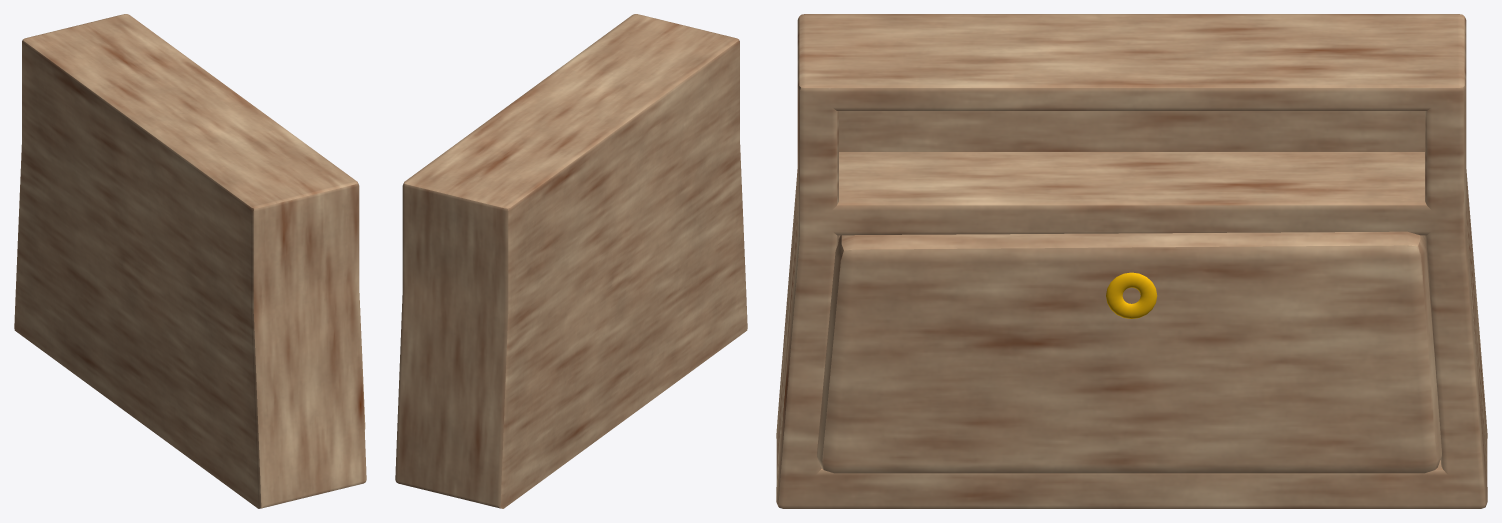
The model's file is library 2.fbx.
The picture shows the model from 3 angles, left to right: view 1: azimuth 30°, elevation 25°; view 2: azimuth 150°, elevation 25°; view 3: azimuth 270°, elevation 25°; orthographic projection. The views are drawn at different scales.
Parts seen in each view (by area): view 1: mini_library_2; view 2: mini_library_2; view 3: mini_library_2.
Part boxes in pixels (box(x1,y1,x2,y2)): mini_library_2: box(14, 14, 366, 508); mini_library_2: box(395, 14, 747, 508); mini_library_2: box(776, 14, 1487, 508).
Size of the model in its own units: 0.506 by 1.14 by 1.73.
1 material, 1 textured.
